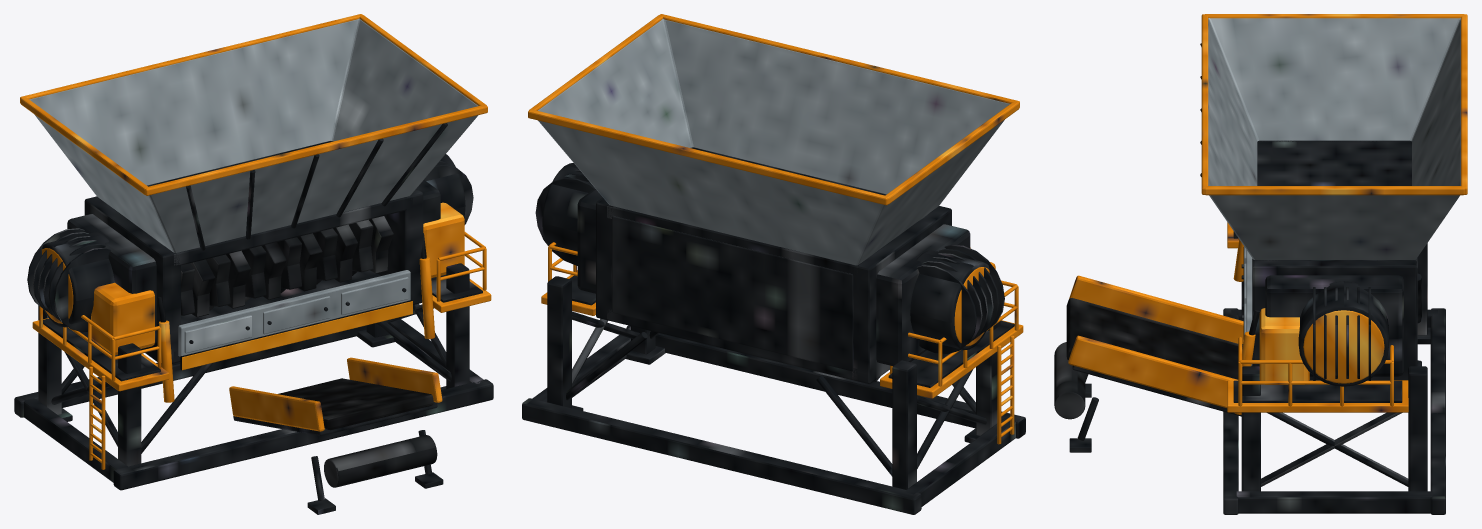
Rendered from industrial_scrap_shredder_roblox.glb.
The picture shows the model from 3 angles, left to right: view 1: azimuth 30°, elevation 25°; view 2: azimuth 150°, elevation 25°; view 3: azimuth 270°, elevation 25°; orthographic projection. The views are drawn at different scales.
Parts seen in each view (by area): view 1: Feed_Hopper, BaseCross.001, ConveyorBed, ChamberUpper, ChamberSide.001, HazardBand, DriveGuard, ConveyorRoller, HopperRimFront, FrontFascia, Gearbox, ConveyorGuard.001 (+45 smaller); view 2: Feed_Hopper, RearWall, BaseCross, BaseCross.001, Gearbox, ChamberSide.001, MainMotor, HopperRimRear, FrameColumn.003, FrameColumn.001, ChamberUpper, BaseSide.001 (+21 smaller); view 3: Feed_Hopper, ChamberUpper, ConveyorBed, ConveyorGuard, ChamberSide, Gearbox.001, BaseSide, ConveyorGuard.001, MotorEnd.001, BaseCross, MainMotor.001, CatwalkDeck (+15 smaller).
Part boxes in pixels (x1,y1,x2,y2): Feed_Hopper: [29, 18, 478, 252]; BaseCross.001: [113, 379, 493, 490]; ConveyorBed: [278, 378, 433, 430]; ChamberUpper: [97, 141, 412, 265]; ChamberSide.001: [84, 196, 180, 364]; HazardBand: [180, 300, 412, 370]; DriveGuard: [91, 282, 154, 354]; ConveyorRoller: [324, 435, 437, 487]; HopperRimFront: [145, 104, 487, 195]; FrontFascia: [178, 270, 410, 356]; Gearbox: [67, 214, 156, 345]; ConveyorGuard.001: [229, 386, 324, 431]; Feed_Hopper: [538, 18, 1010, 265]; RearWall: [612, 215, 853, 371]; BaseCross: [522, 398, 921, 514]; BaseCross.001: [626, 325, 1025, 438]; Gearbox: [876, 224, 970, 365]; ChamberSide.001: [852, 206, 951, 383]; MainMotor: [910, 250, 989, 350]; HopperRimRear: [528, 109, 888, 205]; FrameColumn.003: [547, 276, 571, 408]; FrameColumn.001: [892, 360, 916, 489]; ChamberUpper: [607, 147, 939, 278]; BaseSide.001: [904, 417, 1015, 506]; Feed_Hopper: [1208, 18, 1460, 259]; ChamberUpper: [1252, 140, 1416, 261]; ConveyorBed: [1066, 298, 1242, 379]; ConveyorGuard: [1068, 335, 1237, 407]; ChamberSide: [1252, 260, 1416, 380]; Gearbox.001: [1265, 275, 1403, 376]; BaseSide: [1236, 491, 1432, 513]; ConveyorGuard.001: [1069, 275, 1243, 343]; MotorEnd.001: [1303, 310, 1384, 383]; BaseCross: [1430, 308, 1445, 514]; MainMotor.001: [1298, 281, 1388, 386]; CatwalkDeck: [1233, 380, 1402, 402].
Bounding box in the file's own units: 13.66 × 9.54 × 11.16.
Materials: 6 (6 with a texture image).
